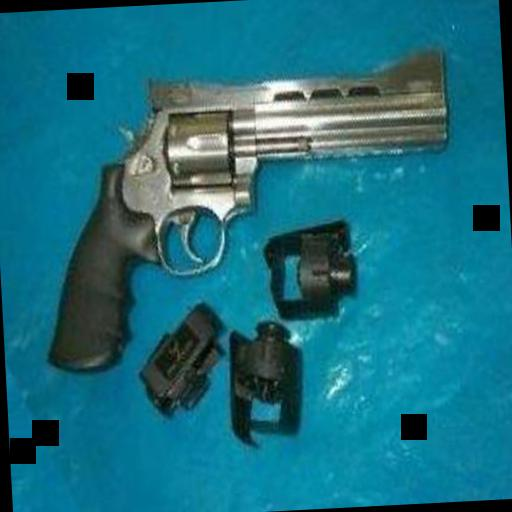Handgun: (20, 42, 464, 378)
